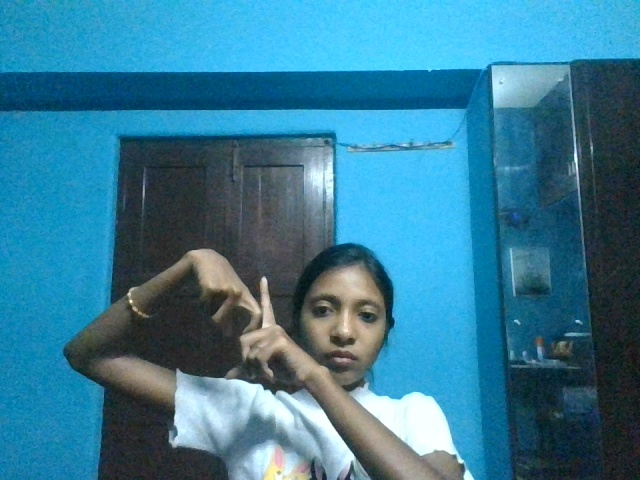K: (185, 246, 327, 400)
